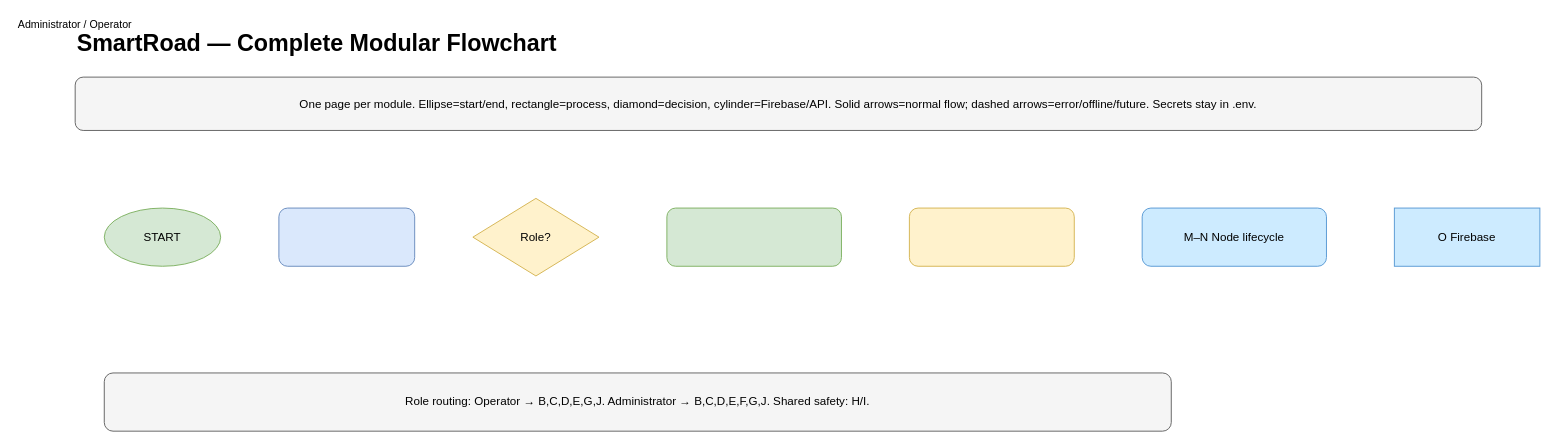
The diagram is 1557 pixels wide and 448 high, and some of its shapes have lost their labels. Each missing label, with the centre of its shape:
A Auth: pixel 346 236
B–G, J UI modules: pixel 753 236
K–L Traffic: pixel 991 236
